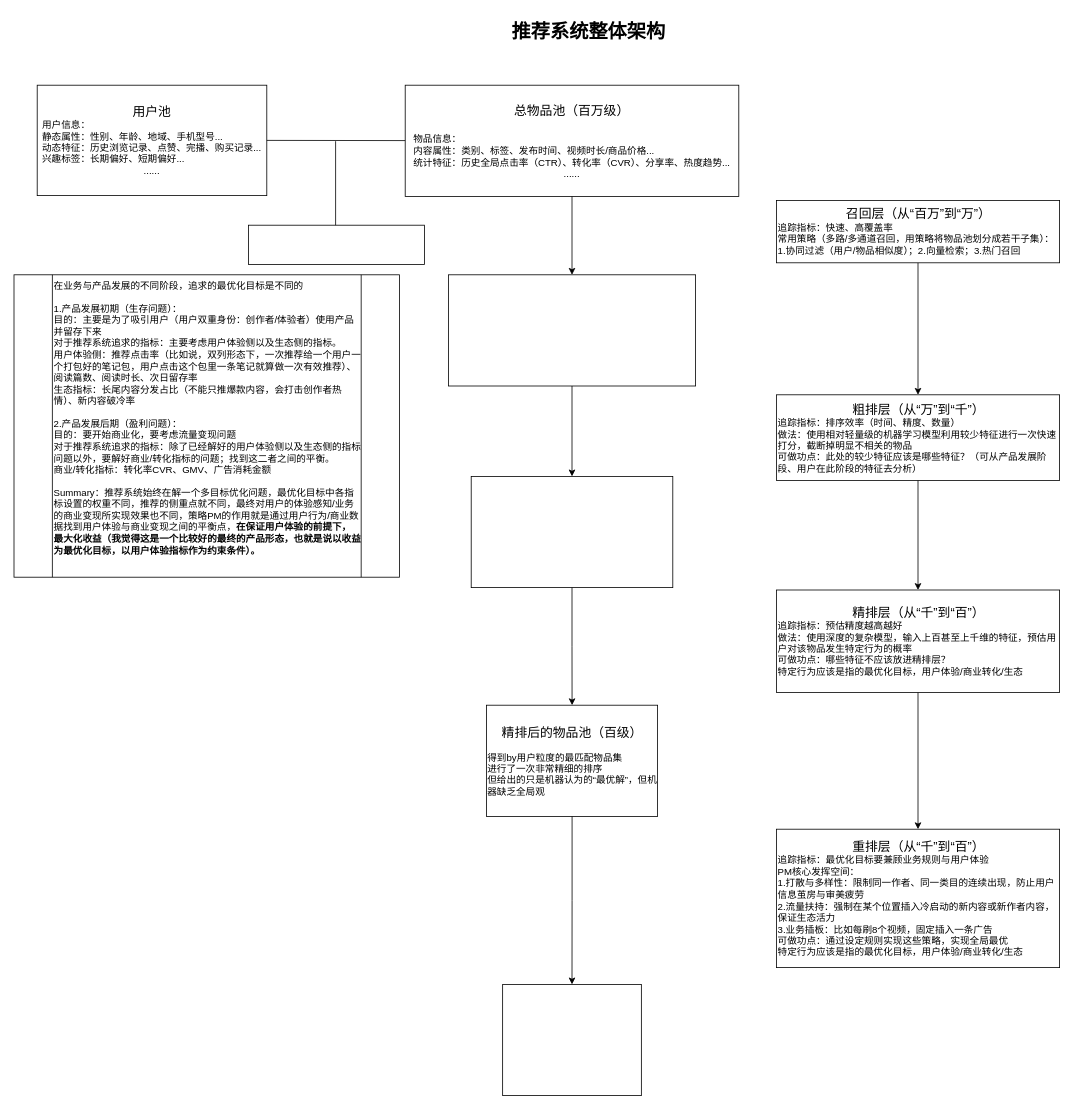
Some shapes in this 1074 by 1110 pixel diagram are drawn without their labels. The shapes that lost their labels are listed below. From the top down, each one's box as (x1, y1, x2, y2) in pixels, then its label:
(248, 224, 424, 264): 最终目的：找到二者之间最优的匹配关系
(448, 274, 696, 386): 召回后的物品池（万级） 得到by用户粒度的最匹配物品集 物品是杂乱的、没有进行排序
(470, 476, 673, 588): 粗排后的物品池（千级） 得到by用户粒度的最匹配物品集 进行了一次较粗颗粒度的排序
(502, 984, 641, 1096): 重排后的物品池（十级） 得到by用户粒度的最匹配物品集 进行了两次次非常精细的排序 理想态是做到全局最优
